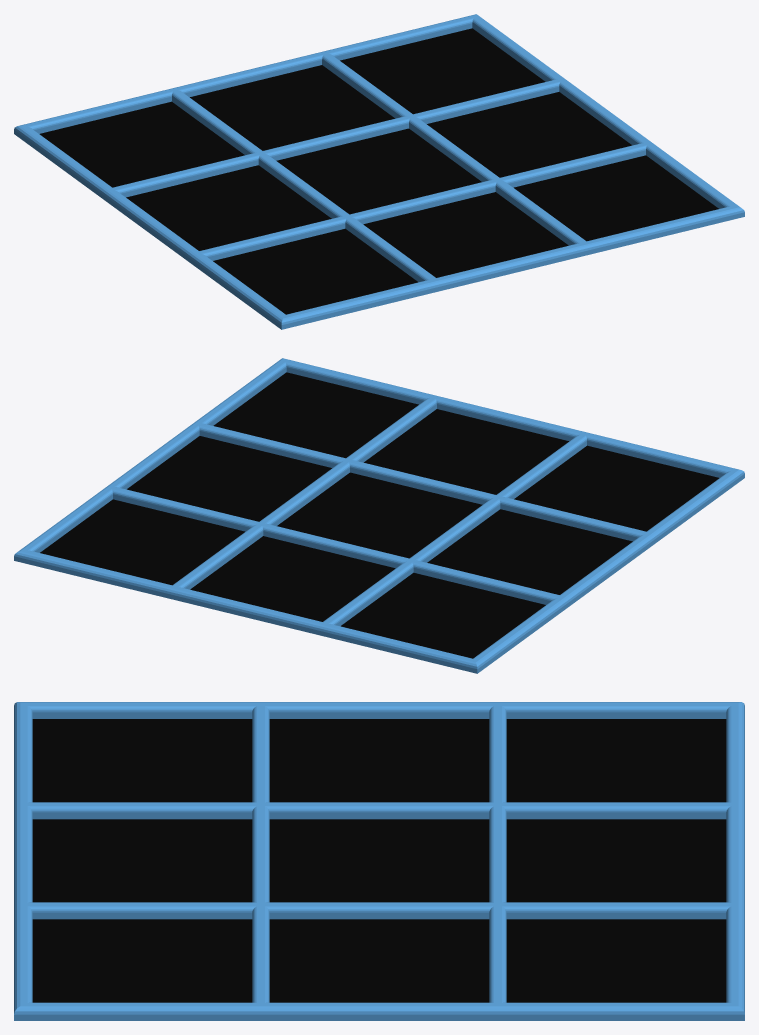
File: Inventory 6X6.fbx
The picture shows the model from 3 angles, top to bottom: view 1: azimuth 30°, elevation 25°; view 2: azimuth 150°, elevation 25°; view 3: azimuth 270°, elevation 25°; orthographic projection. The views are drawn at different scales.
Visible parts, largest first — view 1: Inventory 6X6; view 2: Inventory 6X6; view 3: Inventory 6X6.
Part boxes in pixels (x1,y1,x2,y2): Inventory 6X6: (14, 14, 744, 329); Inventory 6X6: (14, 358, 744, 673); Inventory 6X6: (14, 702, 744, 1020).
Size of the model in its own units: 1110 by 20 by 1110.
